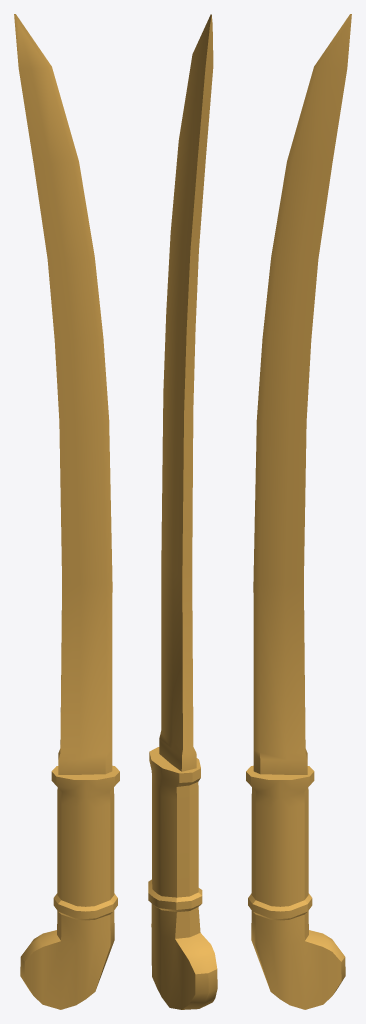
Rendered from gorskaya_sablya_model.fbx.
3 views of the same model, side by side, from view 1: azimuth 90°, elevation 25°; view 2: azimuth 210°, elevation 25°; view 3: azimuth 270°, elevation 25° (orthographic).
Parts seen in each view (by area): view 1: blade, handle; view 2: blade, handle; view 3: blade, handle.
Part boxes in pixels (bbox=[...]): blade: bbox=[14, 14, 112, 774]; handle: bbox=[20, 765, 119, 1009]; blade: bbox=[159, 14, 213, 771]; handle: bbox=[148, 747, 217, 1009]; blade: bbox=[253, 14, 351, 774]; handle: bbox=[246, 765, 345, 1009].
Size of the model in its own units: 5.79 by 129 by 12.49.
